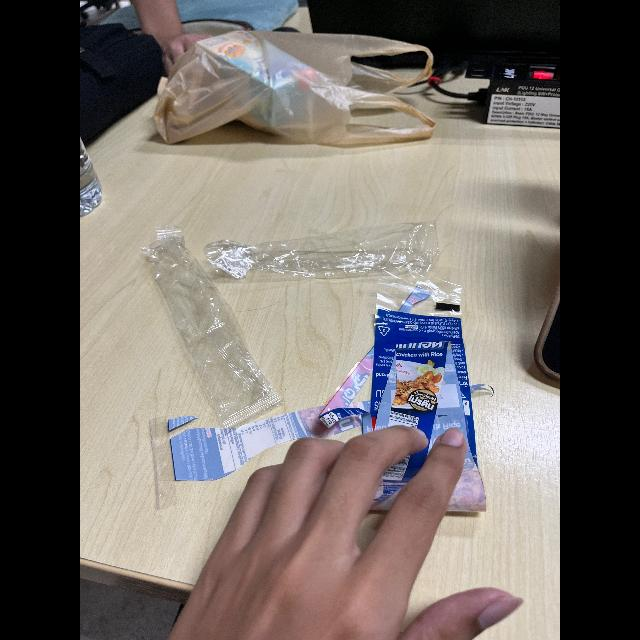scrap_plastic: (334, 280, 494, 510), (204, 192, 462, 306), (122, 243, 280, 412)
